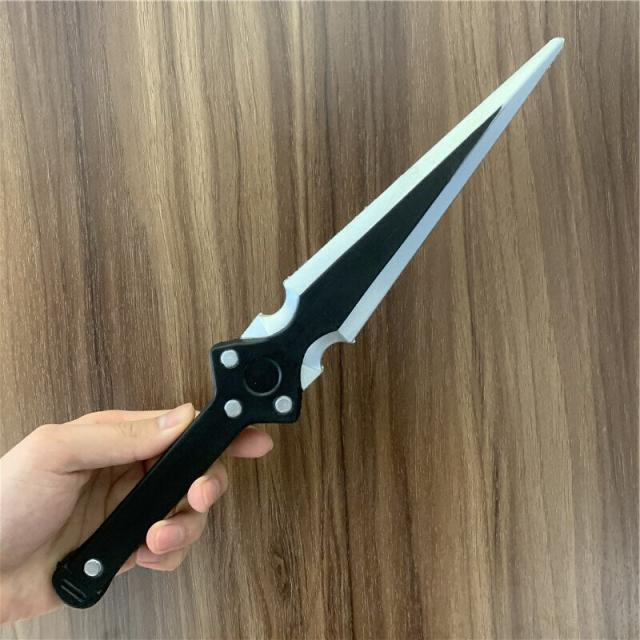short sword: (36, 26, 584, 608)
